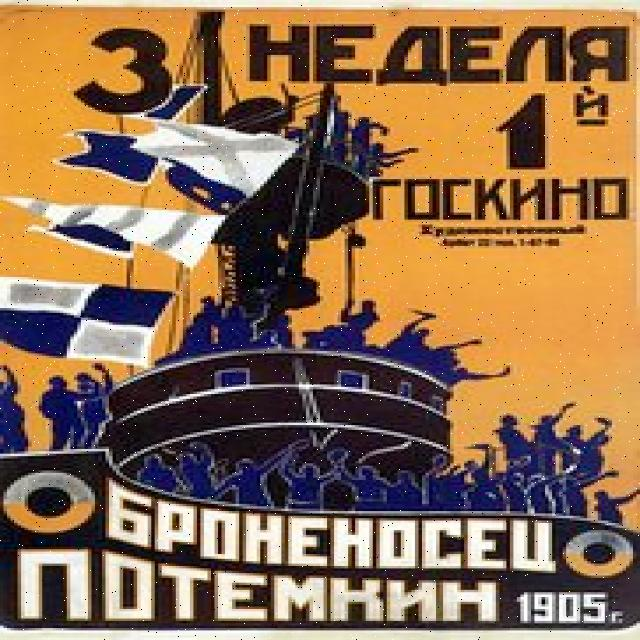movie-judul: (34, 15, 640, 252), (0, 443, 640, 638)
picture: (4, 6, 640, 629)
